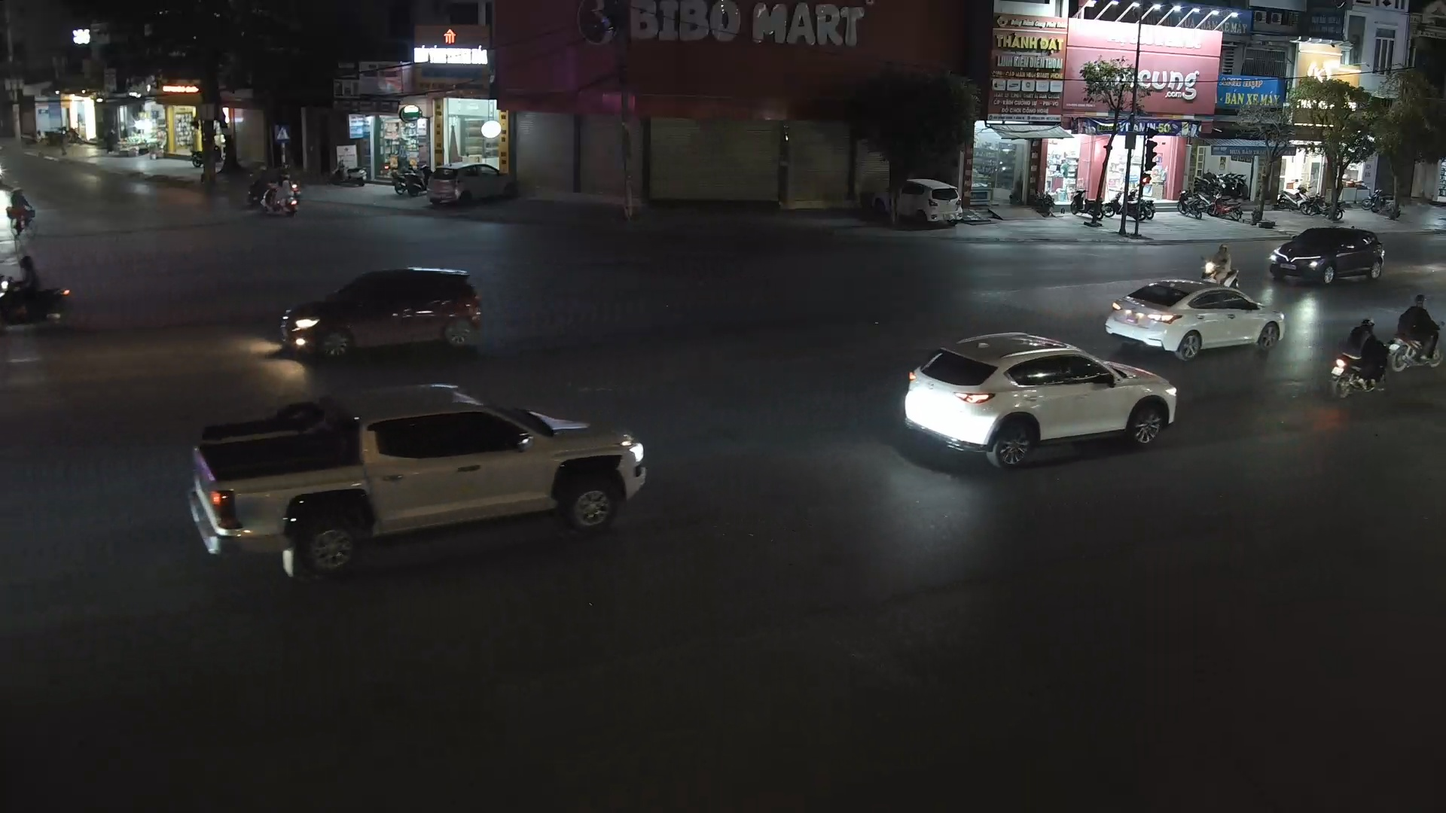car: (183, 381, 651, 567), (895, 332, 1180, 469), (275, 264, 484, 361), (1104, 277, 1287, 361), (1267, 224, 1387, 288), (0, 246, 72, 332)
motorbike: (0, 247, 72, 332), (1328, 315, 1395, 400), (1388, 290, 1445, 378), (1, 184, 36, 238)
